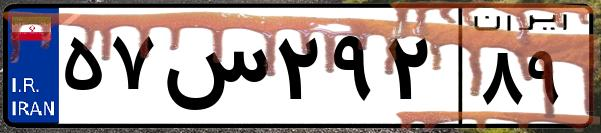2: (270, 28, 330, 110), (385, 28, 445, 110)
5: (57, 26, 110, 100)
7: (110, 28, 158, 98)
8: (475, 38, 525, 113)
9: (330, 28, 385, 110), (525, 38, 570, 115)
س: (158, 20, 270, 120)
